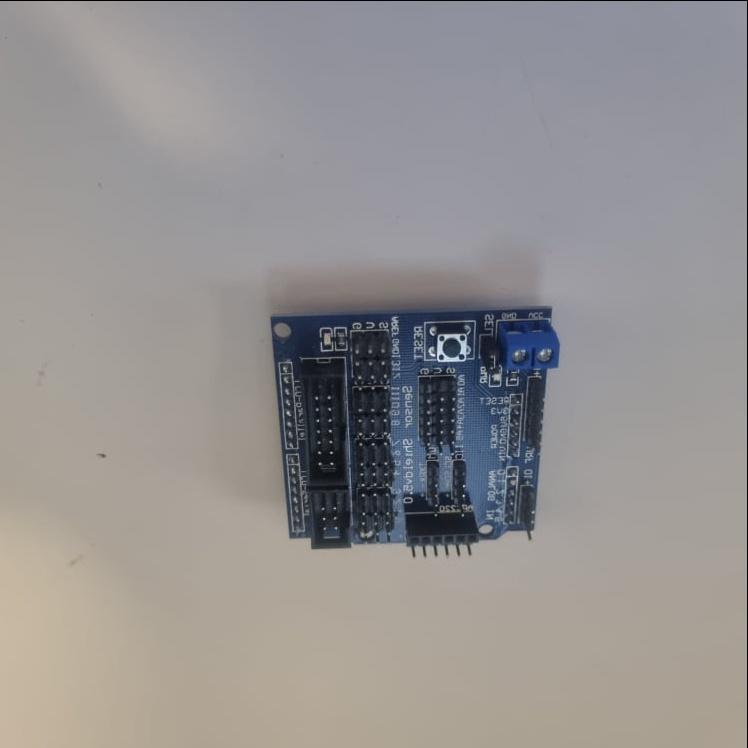5V EXPANSION: (268, 307, 566, 562)
